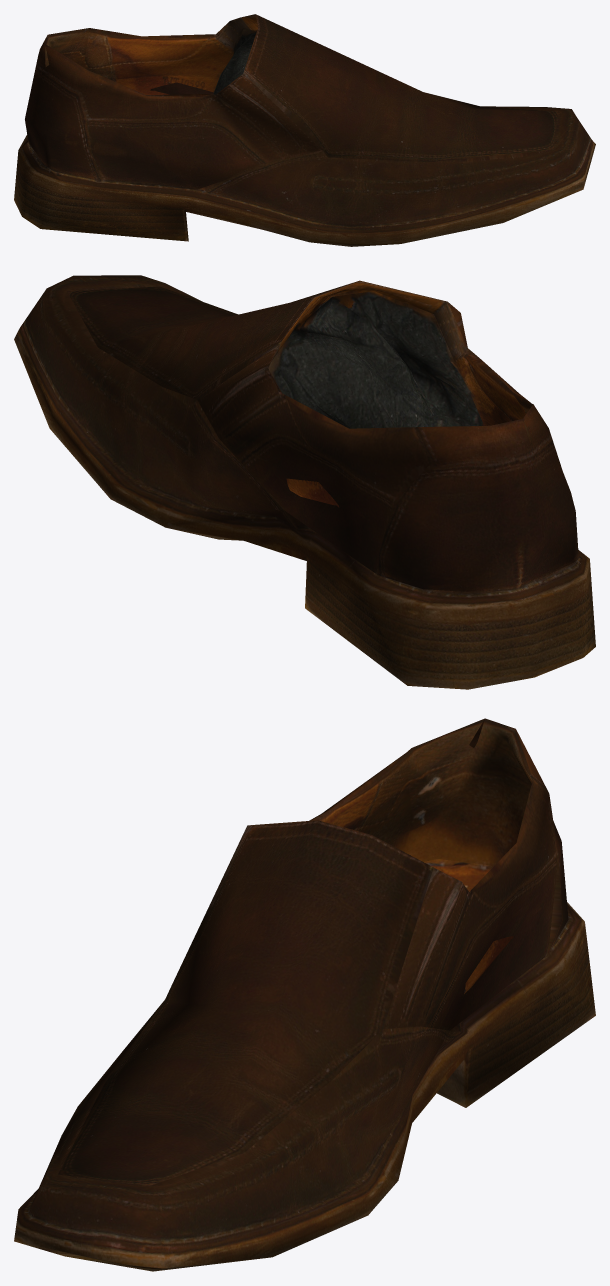
Rendered from shoe_low.glb.
3 views of the same model, one above another, from view 1: azimuth 30°, elevation 25°; view 2: azimuth 150°, elevation 25°; view 3: azimuth 270°, elevation 25° (orthographic). The views are drawn at different scales.
Bounding box in the file's own units: 0.2854 × 0.1068 × 0.1894.
1 material, 1 textured.
